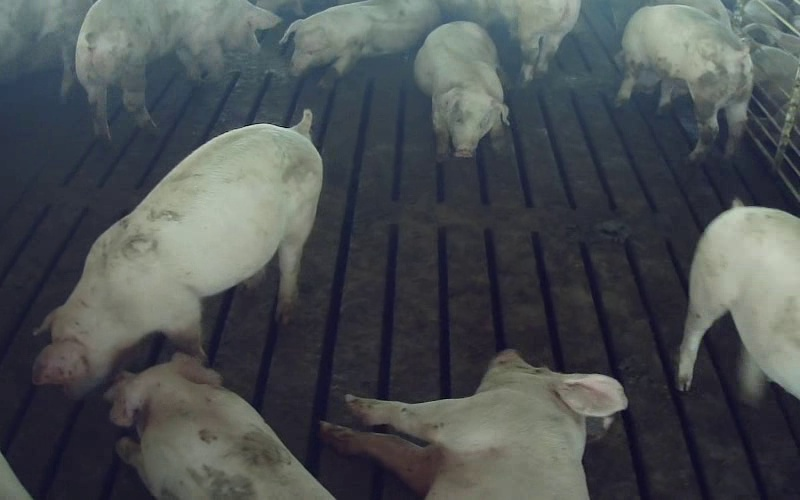pig: (34, 110, 321, 396), (321, 350, 627, 499), (106, 353, 333, 499), (75, 0, 279, 138), (678, 200, 799, 404), (615, 5, 752, 159), (414, 21, 508, 159)
